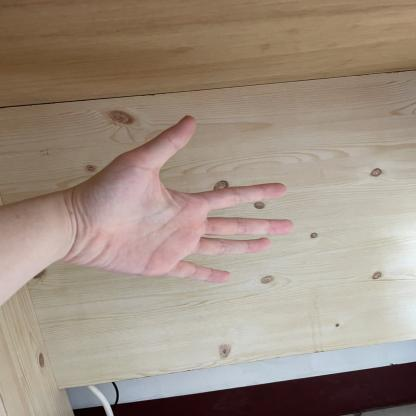bare_hand: (40, 105, 309, 307)
